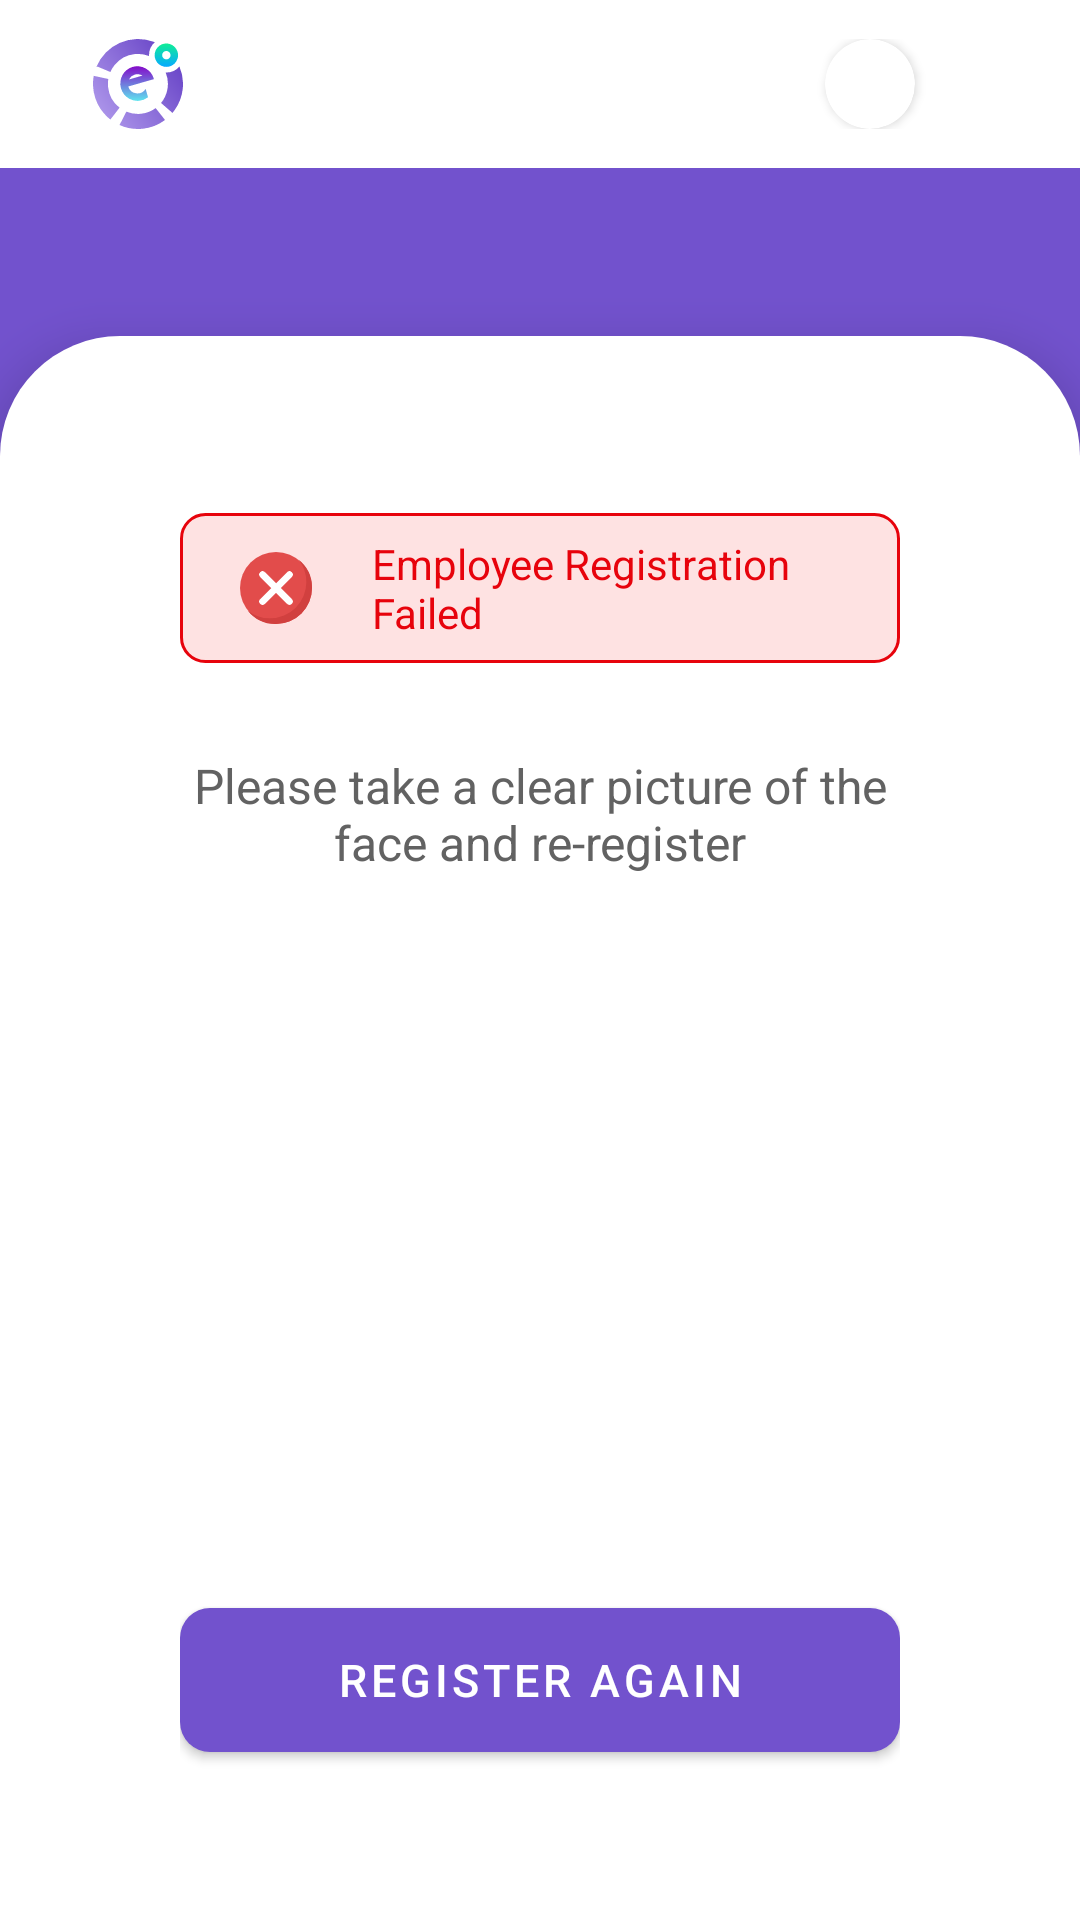

Screen size 1080×1920. Icon name, then its box in pixels as (x1, y1, x2, y2):
not found: (240, 552, 312, 624)
